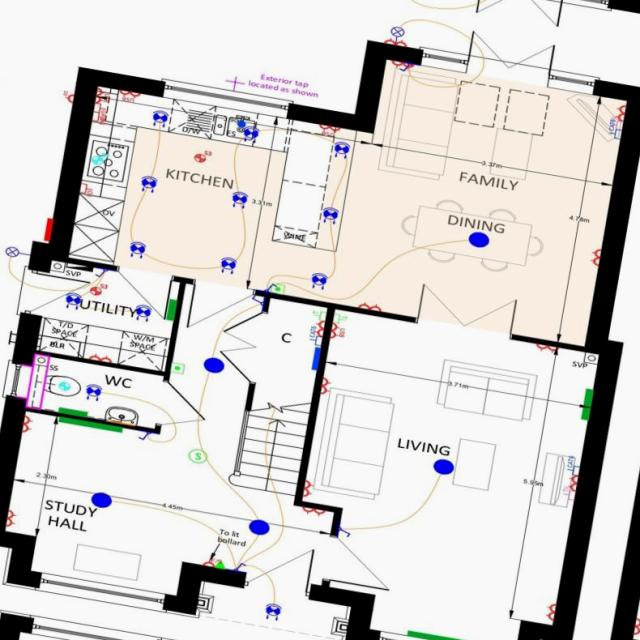BT Entry Point: (214, 560, 225, 569)
Cat 6 Data Socket: (566, 453, 580, 475), (608, 118, 622, 139), (308, 325, 322, 345)
Ceiling Mounted Continuous Extract FanWith Boost Mode Activated By Light Switch: (58, 380, 70, 390)
Ceiling Mounted Continuous Extract FanWith Local Boost Switch: (194, 150, 212, 162), (89, 283, 107, 295)
Co-Ax TV Socket: (610, 116, 624, 129), (562, 484, 574, 498)
Consumer Unit: (66, 262, 92, 271)
Double Socket: (391, 58, 414, 70), (357, 301, 382, 310), (589, 249, 603, 265), (302, 505, 324, 515), (383, 37, 406, 46), (88, 353, 111, 362), (20, 415, 32, 432), (536, 343, 558, 352), (319, 376, 330, 394), (546, 603, 558, 619), (314, 320, 326, 335), (567, 475, 579, 490), (615, 104, 626, 120), (5, 510, 16, 526), (302, 480, 313, 496), (632, 616, 640, 634)
Electric Meter Box: (43, 217, 52, 240)
External Wall Light: (5, 246, 29, 258), (391, 26, 404, 40)
Fused spur: (203, 556, 220, 568), (60, 89, 74, 101)
Grid Switch: (92, 111, 105, 124)
Light Switch: (264, 282, 276, 292), (399, 62, 410, 72), (251, 295, 263, 304), (338, 527, 350, 536), (233, 562, 246, 570), (138, 432, 150, 439), (95, 269, 107, 276)
Low Energy Downlighter: (150, 109, 168, 127), (264, 602, 281, 620), (140, 174, 156, 193), (310, 271, 326, 290), (220, 256, 236, 275), (333, 140, 349, 158), (231, 190, 247, 208), (134, 304, 150, 322), (322, 206, 338, 223), (130, 240, 145, 258), (65, 292, 80, 310), (86, 383, 101, 401), (243, 126, 259, 142)
Low Energy Pendant Light: (468, 231, 490, 248), (432, 458, 453, 474), (248, 518, 269, 534), (202, 357, 224, 372), (91, 491, 111, 507)
Mains Wired Smoke Detector: (188, 448, 207, 462)
Outside Tap: (224, 75, 245, 91)
Oven Switch: (78, 182, 92, 196)
Programmable Room Thermostat: (270, 283, 284, 294), (169, 362, 184, 372)
Radiator: (57, 417, 121, 432), (405, 628, 479, 640), (580, 388, 592, 419), (58, 406, 88, 416), (164, 298, 176, 319)
Recirculating Extractor Fan: (91, 152, 107, 164)
Telephone Socket: (311, 309, 327, 319), (332, 313, 346, 322)
USB Double Socket: (319, 122, 340, 136), (119, 88, 139, 102), (329, 322, 344, 338), (94, 87, 109, 102)
Underfloor Heating Manifold: (310, 346, 320, 369)
Water Entry Position: (237, 120, 244, 126)
